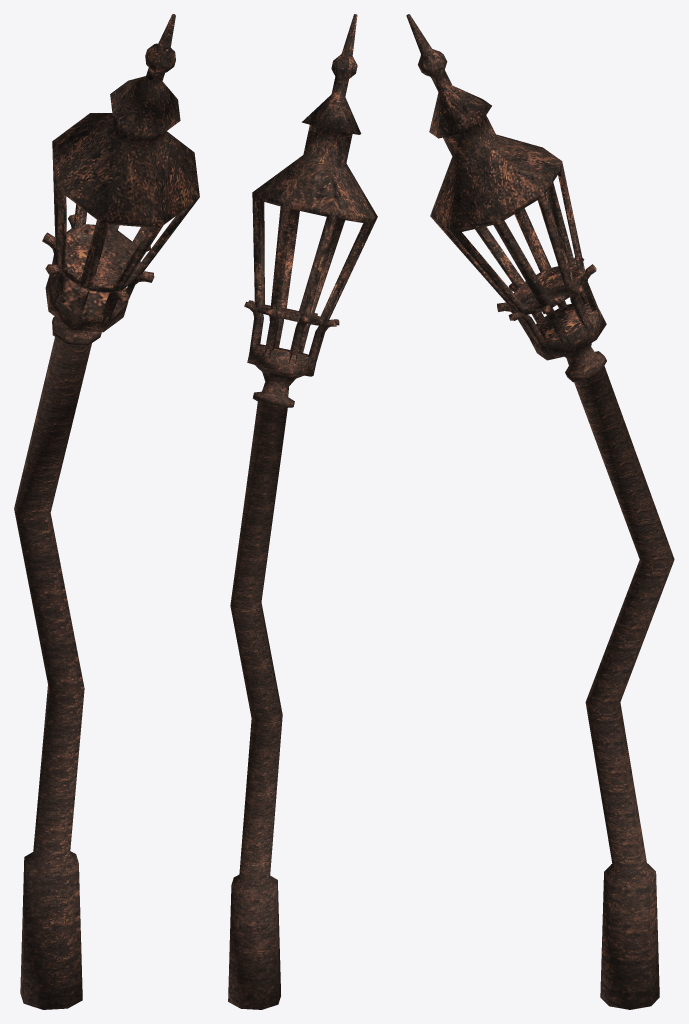
Rendered from lamp_LOD0.fbx.
3 views of the same model, side by side, from view 1: azimuth 30°, elevation 25°; view 2: azimuth 150°, elevation 25°; view 3: azimuth 270°, elevation 25° (orthographic). The views are drawn at different scales.
Parts seen in each view (by area): view 1: lamp_LOD0; view 2: lamp_LOD0; view 3: lamp_LOD0.
Part boxes in pixels (box(x1,y1,x2,y2)): lamp_LOD0: box(14, 14, 199, 1009); lamp_LOD0: box(228, 14, 377, 1009); lamp_LOD0: box(406, 14, 674, 1009).
Size of the model in its own units: 0.3486 by 2.6 by 0.6429.
